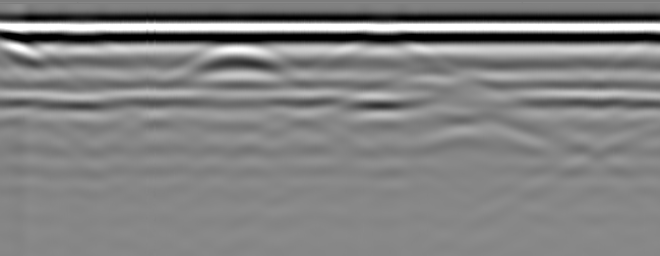pipe: (1, 29, 27, 49)
